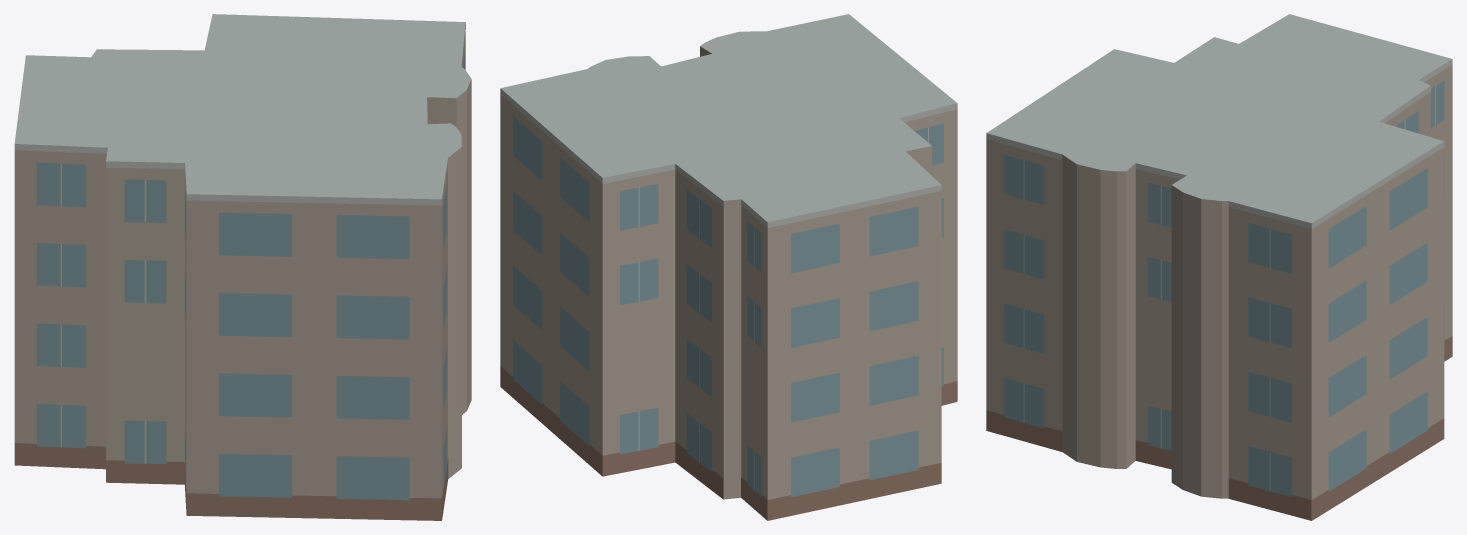
Rendered from survey-upis-32725014.glb.
3 renders of one model, left to right at view 1: azimuth 30°, elevation 25°; view 2: azimuth 150°, elevation 25°; view 3: azimuth 270°, elevation 25°, orthographic. The views are drawn at different scales.
Parts seen in each view (by area): view 1: survey-upis-32725014.tmp; view 2: survey-upis-32725014.tmp; view 3: survey-upis-32725014.tmp.
Boxes of the visible parts, x1,y1,x2,y2 form: survey-upis-32725014.tmp: (14, 14, 471, 520); survey-upis-32725014.tmp: (500, 14, 957, 520); survey-upis-32725014.tmp: (986, 14, 1452, 520).
Bounding box in the file's own units: 18.7 × 12.4 × 17.61.
